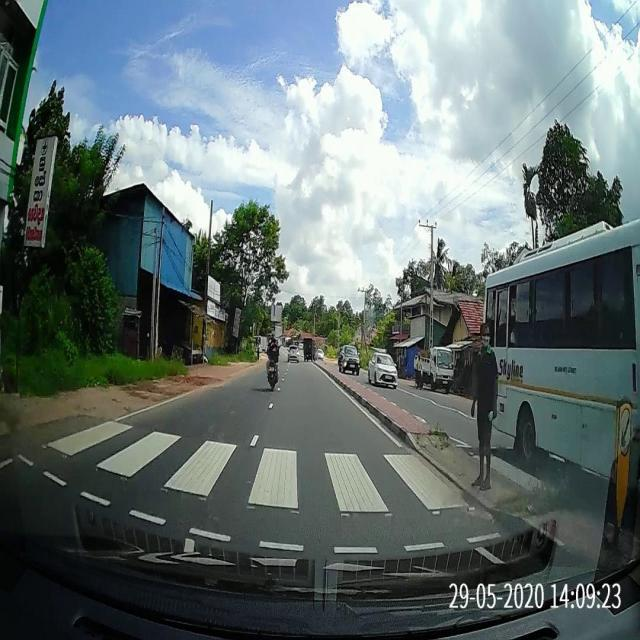Crosswalk: (2, 413, 533, 565)
